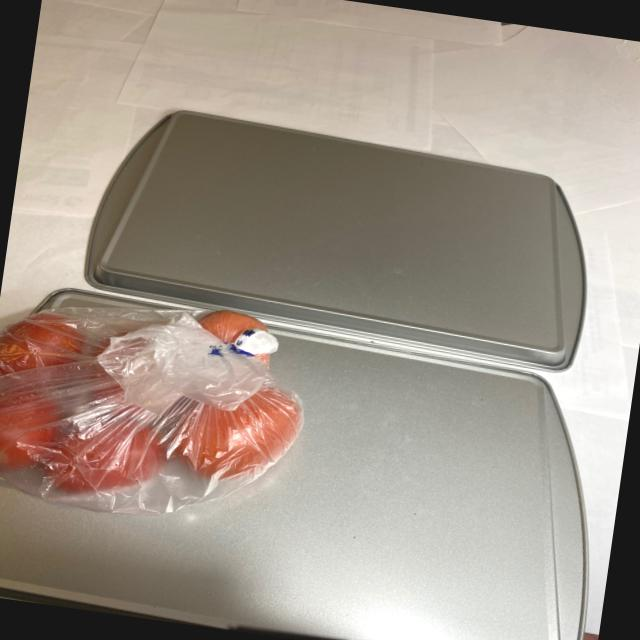tomato: (0, 278, 309, 533)
